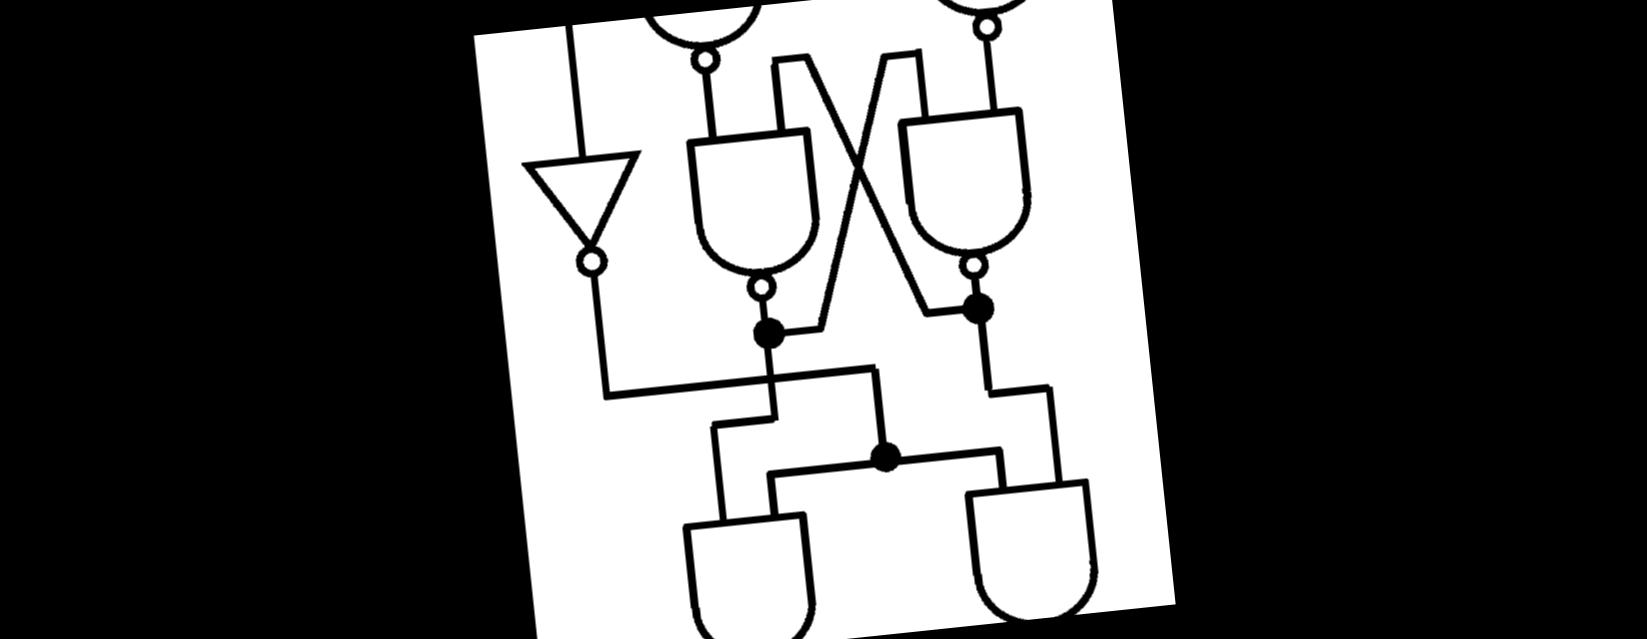nand: (889, 77, 1049, 293), (675, 109, 837, 312), (659, 483, 829, 639), (954, 461, 1113, 625), (629, 4, 777, 81), (914, 0, 1067, 63)
not: (512, 125, 658, 300)
